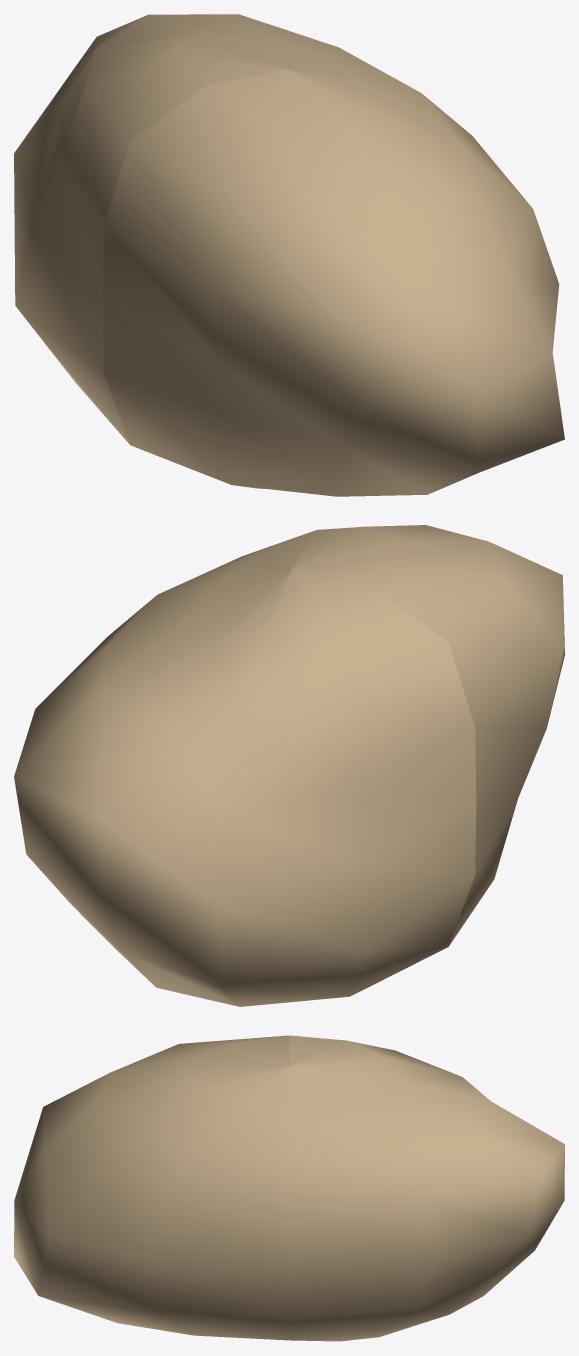
The model's file is right_calcaneus.glb.
3 views of the same model, one above another, from view 1: azimuth 30°, elevation 25°; view 2: azimuth 150°, elevation 25°; view 3: azimuth 270°, elevation 25° (orthographic). The views are drawn at different scales.
Visible parts, largest first — view 1: right_calcaneus:body; view 2: right_calcaneus:body; view 3: right_calcaneus:body.
Boxes of the visible parts, left/top/right/bottom form: right_calcaneus:body: left=14, top=14, right=564, bottom=496; right_calcaneus:body: left=14, top=525, right=564, bottom=1006; right_calcaneus:body: left=14, top=1035, right=564, bottom=1341.
Bounding box in the file's own units: 0.1075 × 0.1032 × 0.1892.
